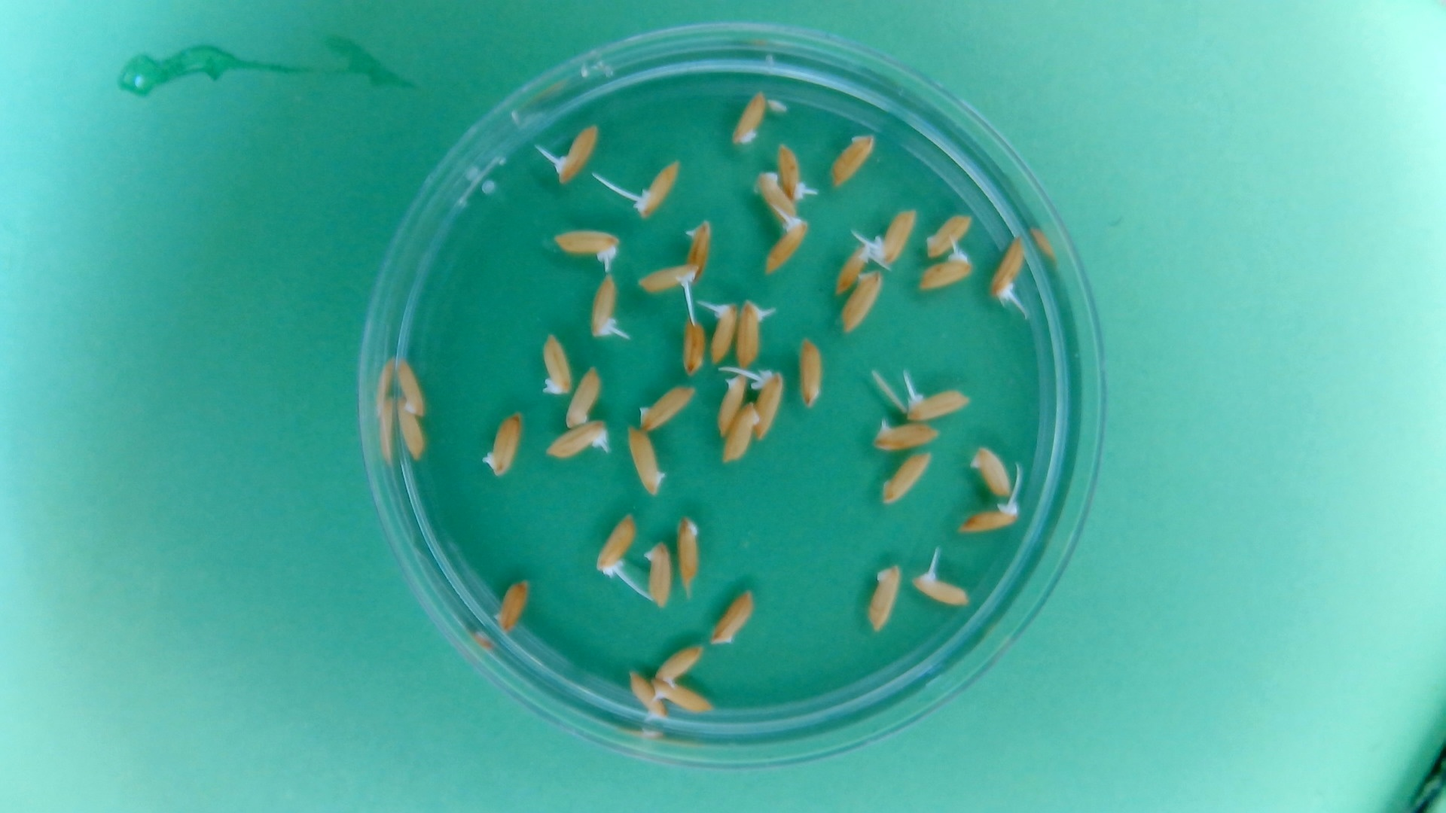no: (479, 407, 525, 480), (624, 422, 668, 498), (879, 449, 935, 508), (840, 266, 886, 336), (636, 382, 697, 434), (708, 586, 757, 646), (828, 130, 877, 189), (865, 561, 904, 633), (720, 400, 761, 466), (923, 210, 975, 260), (563, 363, 602, 429), (968, 443, 1014, 498), (729, 86, 769, 148), (673, 513, 703, 594), (538, 330, 574, 397), (492, 575, 532, 635), (394, 396, 428, 464), (713, 371, 748, 437), (394, 352, 429, 418), (681, 217, 714, 286), (795, 334, 825, 409), (642, 539, 673, 608), (650, 680, 712, 714), (678, 312, 707, 377)
yes: (631, 157, 682, 220), (552, 122, 601, 185), (550, 226, 621, 267), (762, 216, 810, 276), (593, 511, 638, 575), (871, 207, 918, 268), (752, 167, 798, 229), (988, 233, 1028, 304), (543, 419, 609, 461), (909, 566, 972, 608), (751, 366, 785, 442), (916, 248, 974, 292), (652, 643, 706, 687), (588, 274, 624, 340), (734, 297, 767, 368), (958, 498, 1023, 534), (832, 239, 872, 297), (776, 141, 814, 202), (871, 418, 939, 452), (706, 299, 740, 364), (905, 387, 970, 421), (626, 668, 666, 722), (635, 262, 698, 295)
